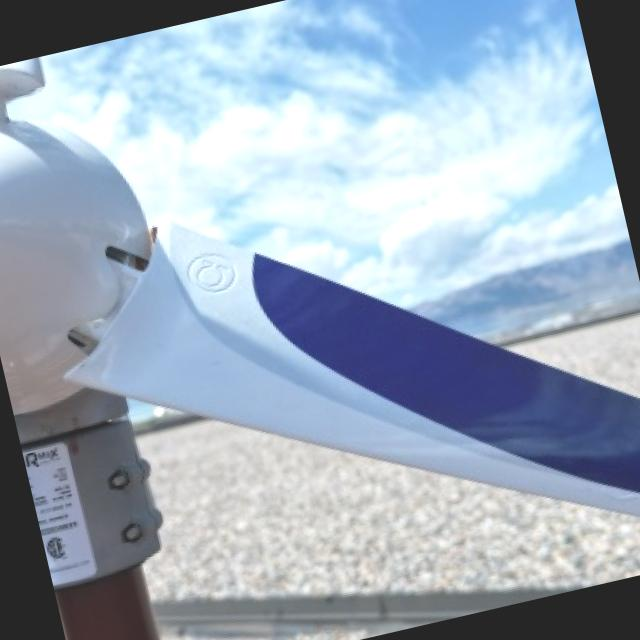healthy: (138, 419, 640, 595)
